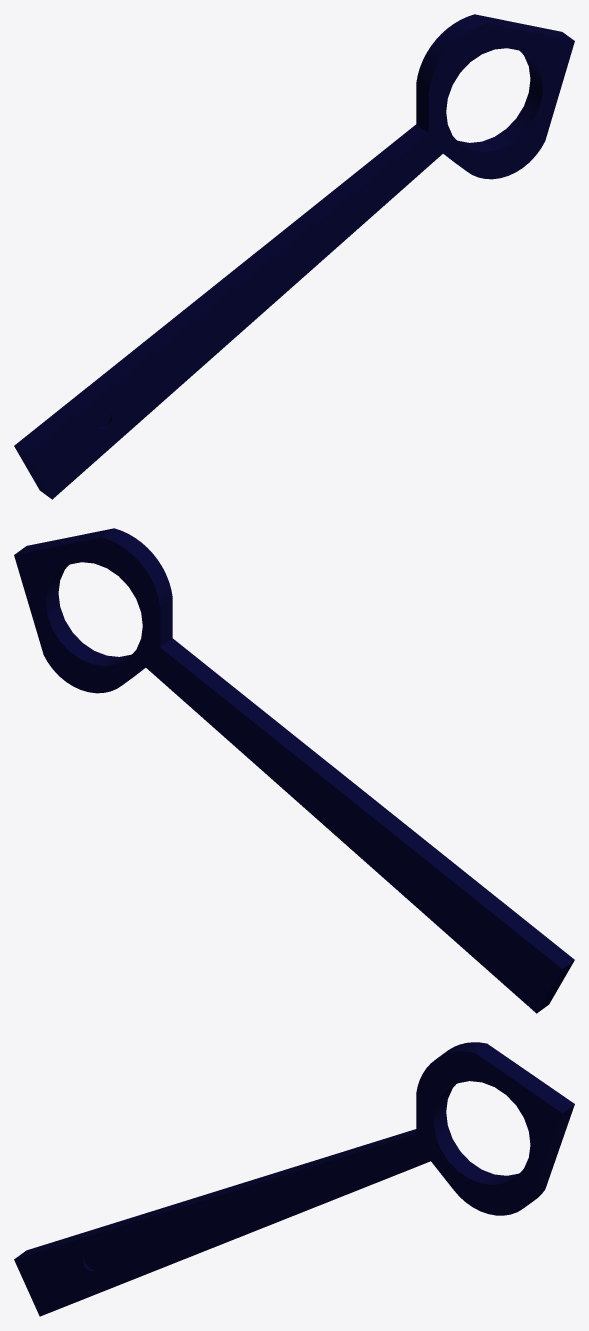
The model's file is original-13.obj.
3 renders of one model, top to bottom at view 1: azimuth 30°, elevation 25°; view 2: azimuth 150°, elevation 25°; view 3: azimuth 330°, elevation 25°, orthographic.
Parts seen in each view (by area): view 1: Component_10_1/Component_10/mesh35/mesh35-geometry#mesh35-geomet; view 2: Component_10_1/Component_10/mesh35/mesh35-geometry#mesh35-geomet; view 3: Component_10_1/Component_10/mesh35/mesh35-geometry#mesh35-geomet.
Part boxes in pixels (x1=…): Component_10_1/Component_10/mesh35/mesh35-geometry#mesh35-geomet: x1=14, y1=14, x2=574, y2=499; Component_10_1/Component_10/mesh35/mesh35-geometry#mesh35-geomet: x1=14, y1=528, x2=574, y2=1013; Component_10_1/Component_10/mesh35/mesh35-geometry#mesh35-geomet: x1=14, y1=1042, x2=574, y2=1316.
Bounding box in the file's own units: 0.3384 × 0.2182 × 0.0134.
